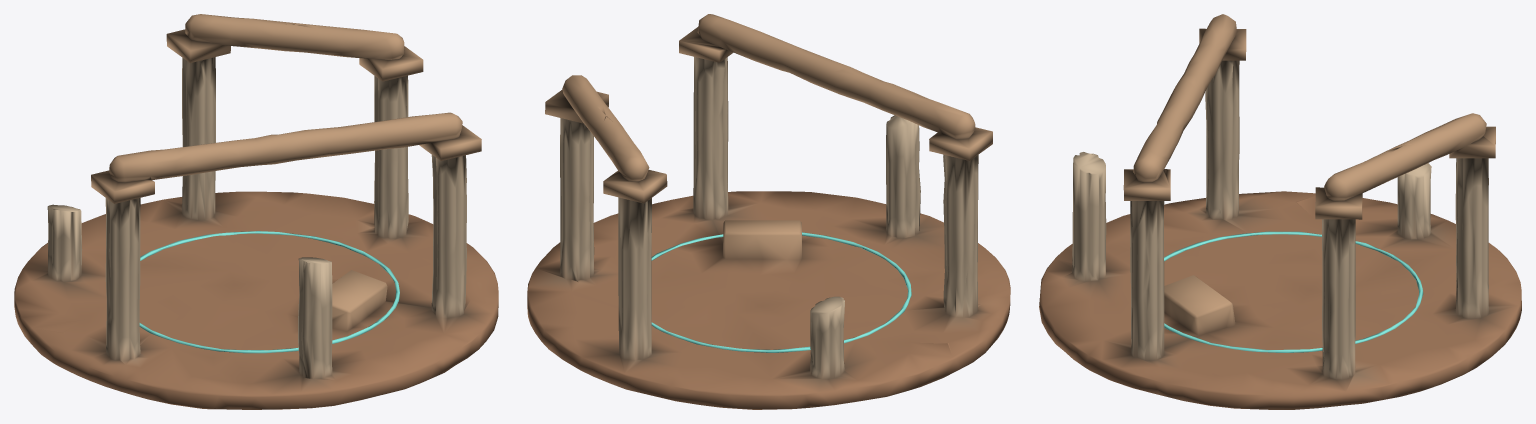
Rendered from colunata.glb.
3 renders of one model, left to right at view 1: azimuth 30°, elevation 25°; view 2: azimuth 150°, elevation 25°; view 3: azimuth 270°, elevation 25°, orthographic.
Visible parts, largest first — view 1: Colunata, Glifos; view 2: Colunata, Glifos; view 3: Colunata, Glifos.
Part boxes in pixels (x1=…): Colunata: x1=14, y1=14, x2=498, y2=409; Glifos: x1=139, y1=231, x2=399, y2=353; Colunata: x1=527, y1=14, x2=1010, y2=409; Glifos: x1=651, y1=232, x2=911, y2=352; Colunata: x1=1039, y1=14, x2=1521, y2=409; Glifos: x1=1164, y1=231, x2=1423, y2=352.
Size of the model in its own units: 17.2 by 8.44 by 17.2.
